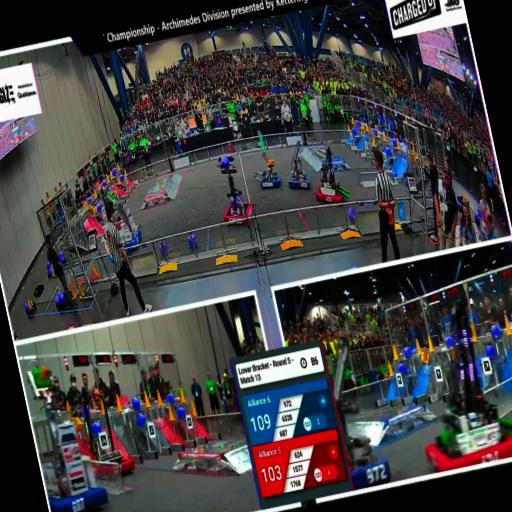robot: (392, 278, 512, 473), (19, 355, 109, 512), (323, 332, 394, 490), (73, 388, 136, 482), (210, 150, 254, 228), (305, 140, 351, 206), (244, 128, 282, 190), (278, 140, 310, 192), (113, 212, 146, 255), (99, 183, 126, 228)
